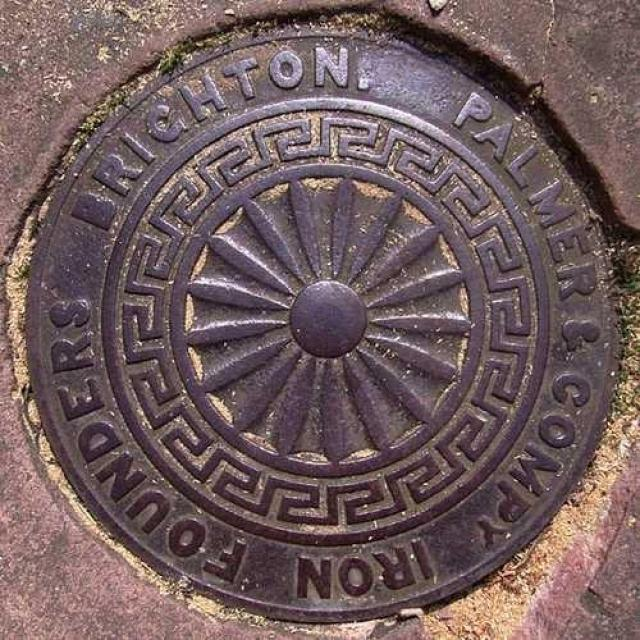manhole: (10, 13, 618, 621)
